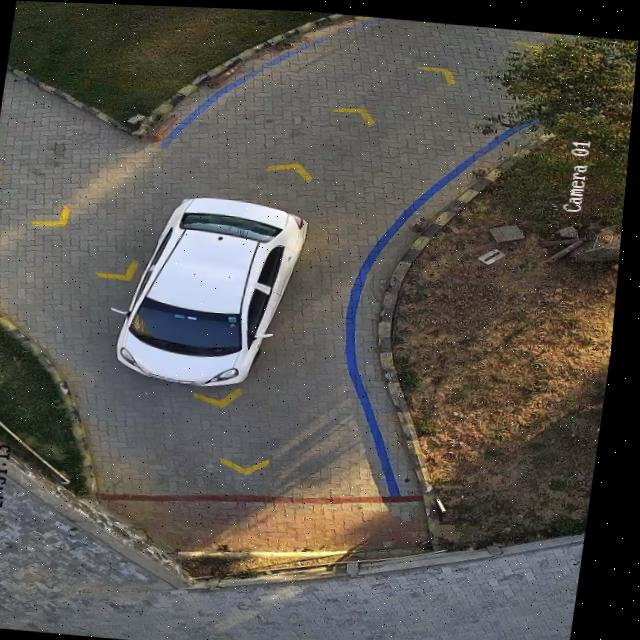car: (123, 194, 311, 384)
